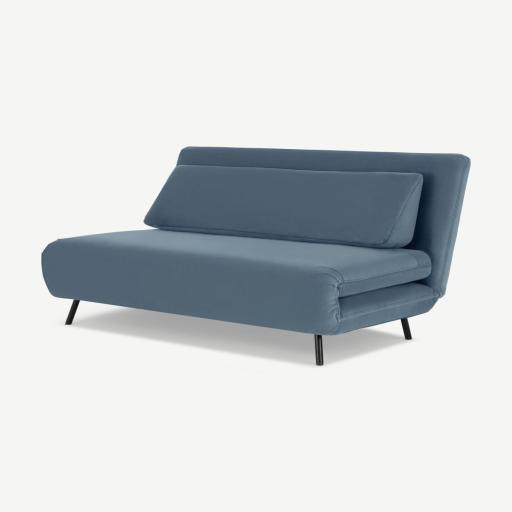back_cushion: (145, 164, 423, 248)
legs: (65, 300, 79, 324), (314, 335, 323, 365), (401, 319, 411, 339)
one-seater: (0, 0, 511, 512)
seat_cushion: (42, 230, 427, 335)
